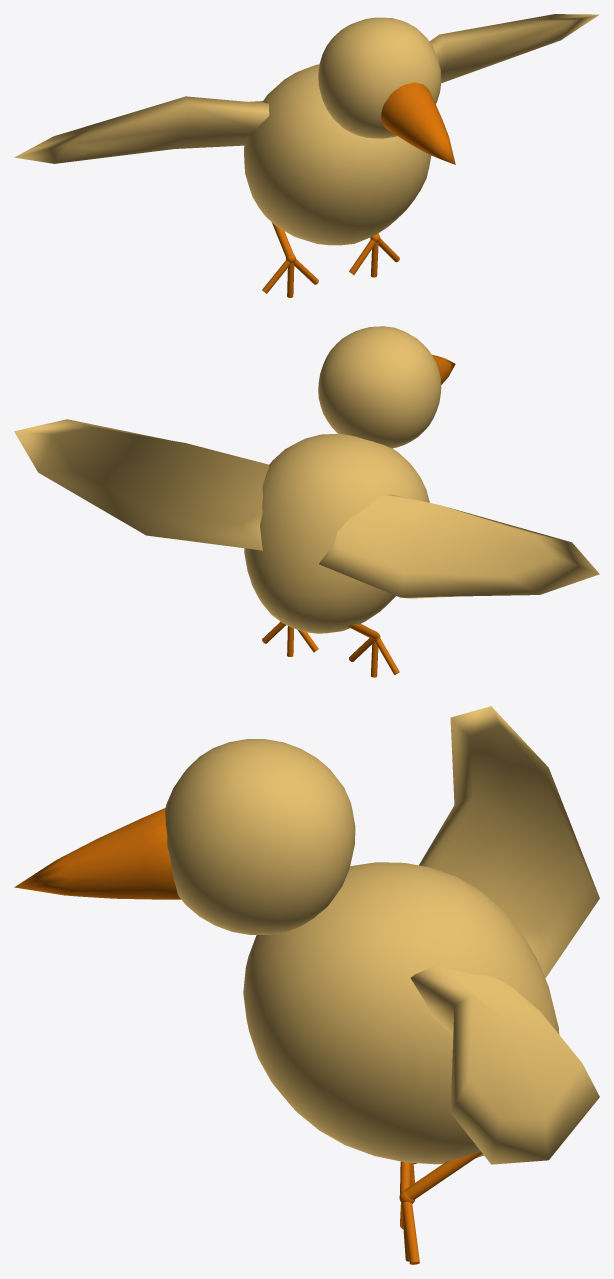
Rendered from Birdy_Context2.fbx.
3 views of the same model, one above another, from view 1: azimuth 30°, elevation 25°; view 2: azimuth 150°, elevation 25°; view 3: azimuth 270°, elevation 25° (orthographic). The views are drawn at different scales.
Visible parts, largest first — view 1: Lichaam, pCube13, LinkerVleugel, RechterVleugel, pCone1; view 2: Lichaam, RechterVleugel, LinkerVleugel, pCube13; view 3: Lichaam, pCube13, LinkerVleugel, RechterVleugel, pCone1, pCylinder26.
Boxes of the visible parts, <box> form: Lichaam: <box>244,64,431,245</box>; pCube13: <box>318,17,441,138</box>; LinkerVleugel: <box>14,96,269,163</box>; RechterVleugel: <box>429,14,599,83</box>; pCone1: <box>381,82,455,164</box>; Lichaam: <box>244,433,429,633</box>; RechterVleugel: <box>14,419,268,550</box>; LinkerVleugel: <box>319,494,599,598</box>; pCube13: <box>318,326,441,448</box>; Lichaam: <box>243,862,559,1164</box>; pCube13: <box>165,739,355,934</box>; LinkerVleugel: <box>419,706,599,978</box>; RechterVleugel: <box>410,965,599,1164</box>; pCone1: <box>14,808,180,899</box>; pCylinder26: <box>405,1151,482,1199</box>.
Bounding box in the file's own units: 0.0408 × 0.0198 × 0.022.
